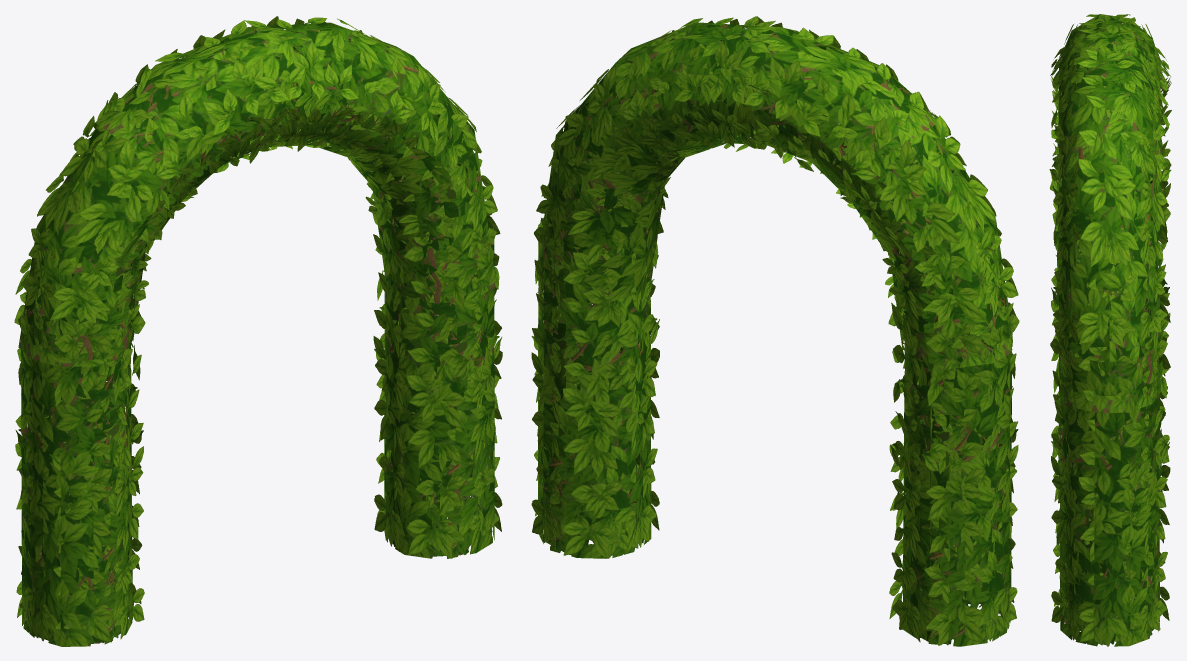
Rendered from syj_zxzhiwu03.fbx.
3 views of the same model, side by side, from view 1: azimuth 30°, elevation 25°; view 2: azimuth 150°, elevation 25°; view 3: azimuth 270°, elevation 25° (orthographic). The views are drawn at different scales.
Parts seen in each view (by area): view 1: syj_zxzhiwu03; view 2: syj_zxzhiwu03; view 3: syj_zxzhiwu03.
Part boxes in pixels (left/top/right/bottom): syj_zxzhiwu03: left=14, top=16, right=502, bottom=646; syj_zxzhiwu03: left=531, top=16, right=1019, bottom=646; syj_zxzhiwu03: left=1049, top=14, right=1171, bottom=646.
Size of the model in its own units: 247 by 281 by 63.1.
